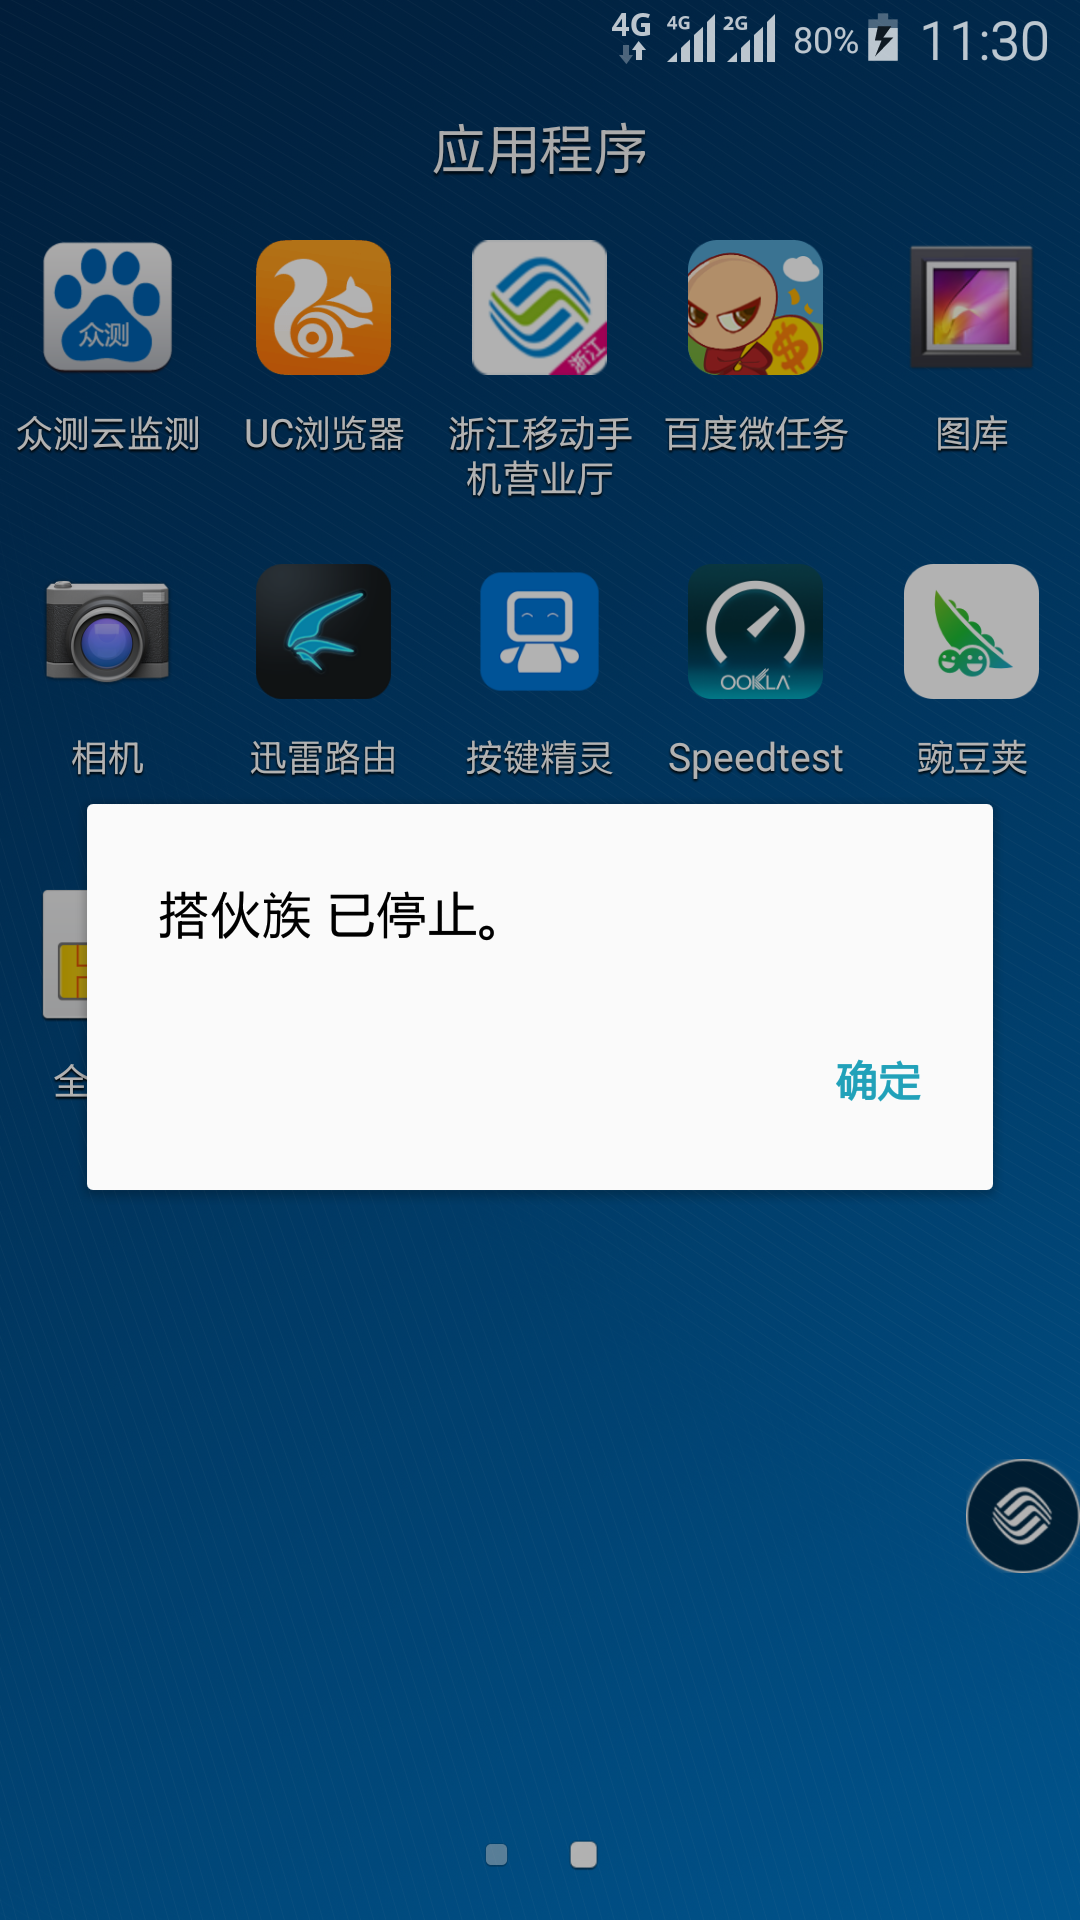alert: (67, 791, 1017, 1215)
imgbutton: (227, 225, 438, 469)
